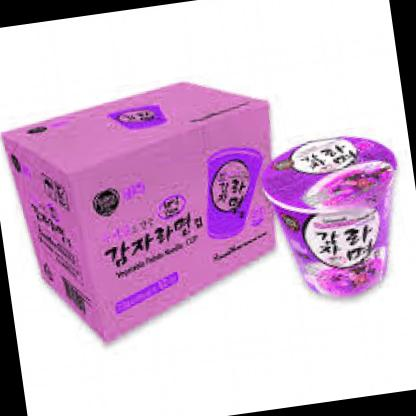Ramen: (253, 125, 411, 306)
